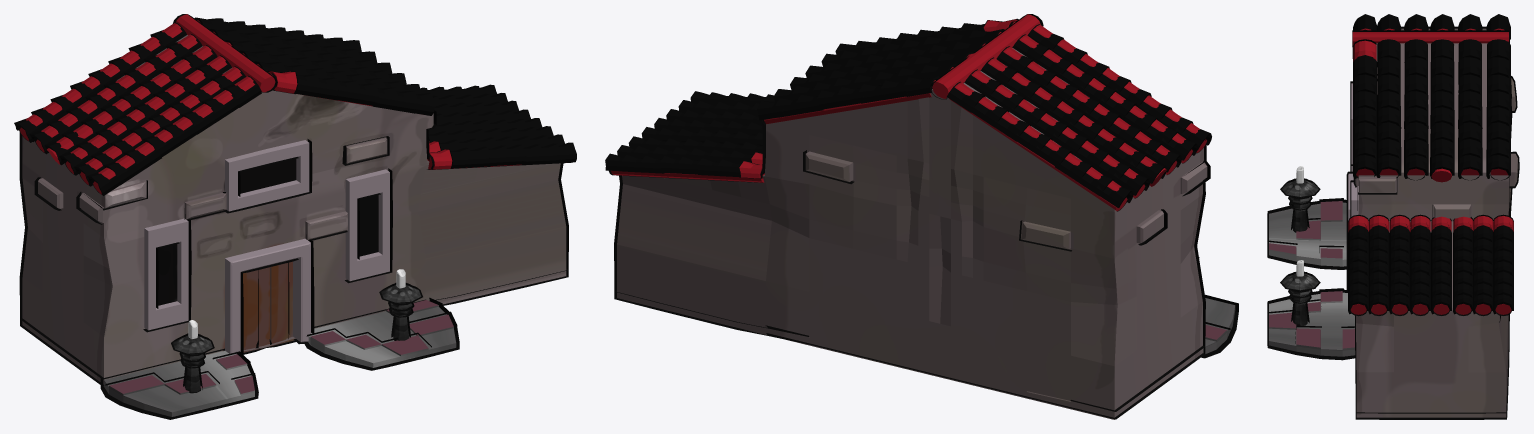
File: houseBig.fbx
3 renders of one model, left to right at view 1: azimuth 30°, elevation 25°; view 2: azimuth 150°, elevation 25°; view 3: azimuth 270°, elevation 25°, orthographic. The views are drawn at different scales.
Parts seen in each view (by area): view 1: Cube, Cube.002, Cylinder.019, Cylinder.175, Cube.001, Cylinder.111, Cylinder.002, Cylinder.093, Cylinder.176, Cylinder.177, Cylinder.178, Cylinder.179 (+11 smaller); view 2: Cube, Cylinder.002, Cylinder.182, Cylinder.111, Cylinder.093, Cube.002, Cylinder.019, Cylinder.181, Cylinder.180, Cylinder.179, Cylinder.178, Cylinder.177 (+6 smaller); view 3: Cube, Cube.002, Cylinder.002, Cylinder.093, Cylinder.019, Cube.001, Cylinder.177, Cylinder.178, Cylinder.182, Cylinder.181, Cylinder.175, Cylinder.176 (+29 smaller).
Part boxes in pixels (<box>): Cube: <box>19,35,568,386</box>; Cube.002: <box>100,297,459,419</box>; Cylinder.019: <box>267,70,434,115</box>; Cylinder.175: <box>427,142,576,169</box>; Cube.001: <box>171,283,422,393</box>; Cylinder.111: <box>173,14,277,92</box>; Cylinder.002: <box>194,17,361,52</box>; Cylinder.093: <box>210,29,377,63</box>; Cylinder.176: <box>429,134,564,152</box>; Cylinder.177: <box>428,126,553,142</box>; Cylinder.178: <box>428,118,542,134</box>; Cylinder.179: <box>436,109,530,125</box>; Cube: <box>614,48,1210,419</box>; Cylinder.002: <box>757,76,939,125</box>; Cylinder.182: <box>605,153,765,182</box>; Cylinder.111: <box>930,14,1043,99</box>; Cylinder.093: <box>773,64,956,102</box>; Cube.002: <box>1201,294,1238,358</box>; Cylinder.019: <box>835,18,1018,55</box>; Cylinder.181: <box>617,145,762,164</box>; Cylinder.180: <box>628,136,762,154</box>; Cylinder.179: <box>641,127,762,145</box>; Cylinder.178: <box>654,118,762,135</box>; Cylinder.177: <box>666,109,762,124</box>; Cube: <box>1346,26,1519,419</box>; Cube.002: <box>1267,198,1355,360</box>; Cylinder.002: <box>1486,39,1510,180</box>; Cylinder.093: <box>1458,39,1482,180</box>; Cylinder.019: <box>1353,39,1376,178</box>; Cube.001: <box>1280,178,1320,325</box>; Cylinder.177: <box>1389,214,1410,315</box>; Cylinder.178: <box>1410,214,1430,315</box>; Cylinder.182: <box>1493,214,1513,315</box>; Cylinder.181: <box>1472,214,1493,316</box>; Cylinder.175: <box>1348,214,1368,316</box>; Cylinder.176: <box>1368,214,1389,315</box>.
Size of the model in its own units: 6792 by 3755 by 3386.
